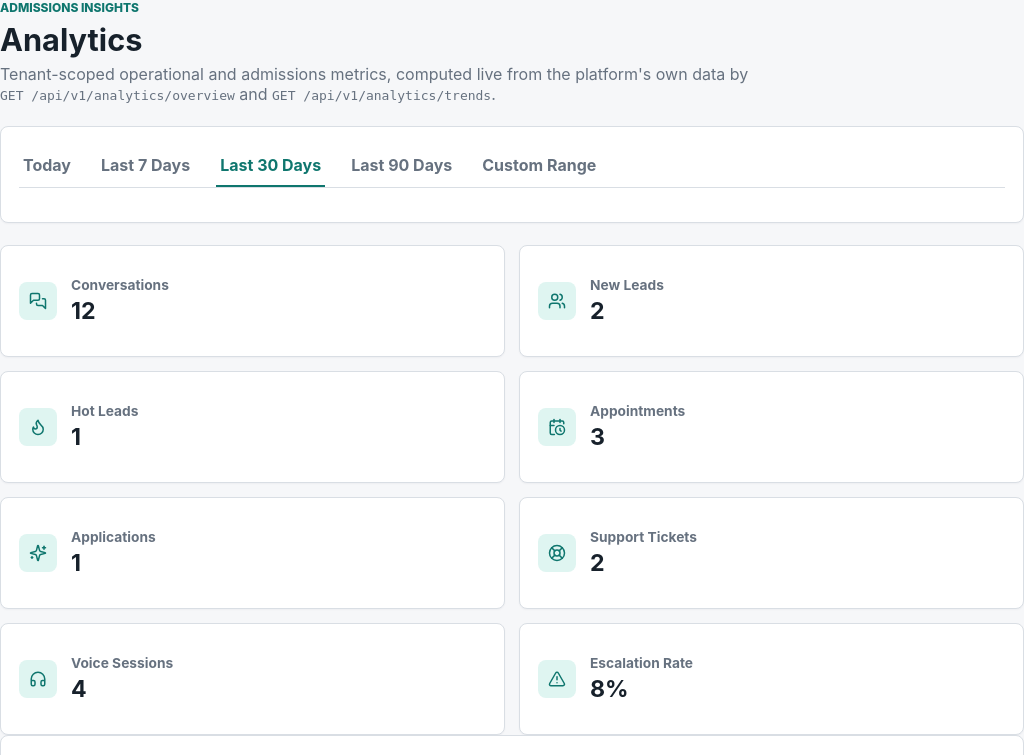
it: AnalyticsPageClient - date range presets › shows a validation error and never requests an end-before-start custom range
Click the tab "Custom Range". click: [539, 166]
box: [478,145,600,187]
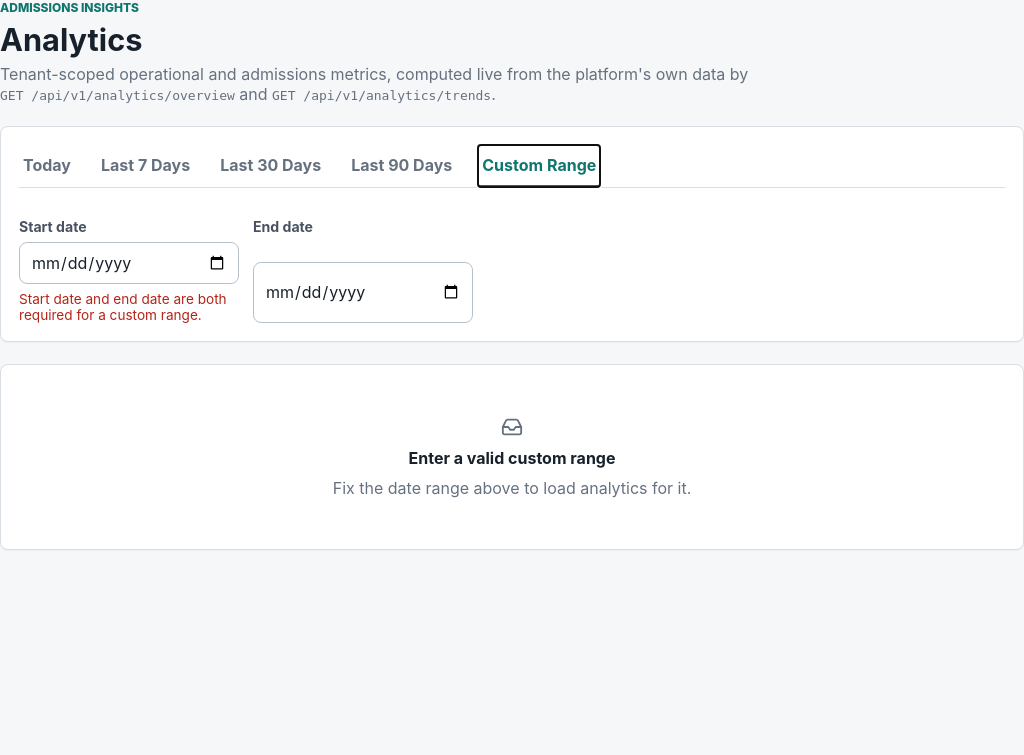
Type "2026-06-10" into the date field labelled "Start date". click: [129, 263]
box: [19,242,239,284]
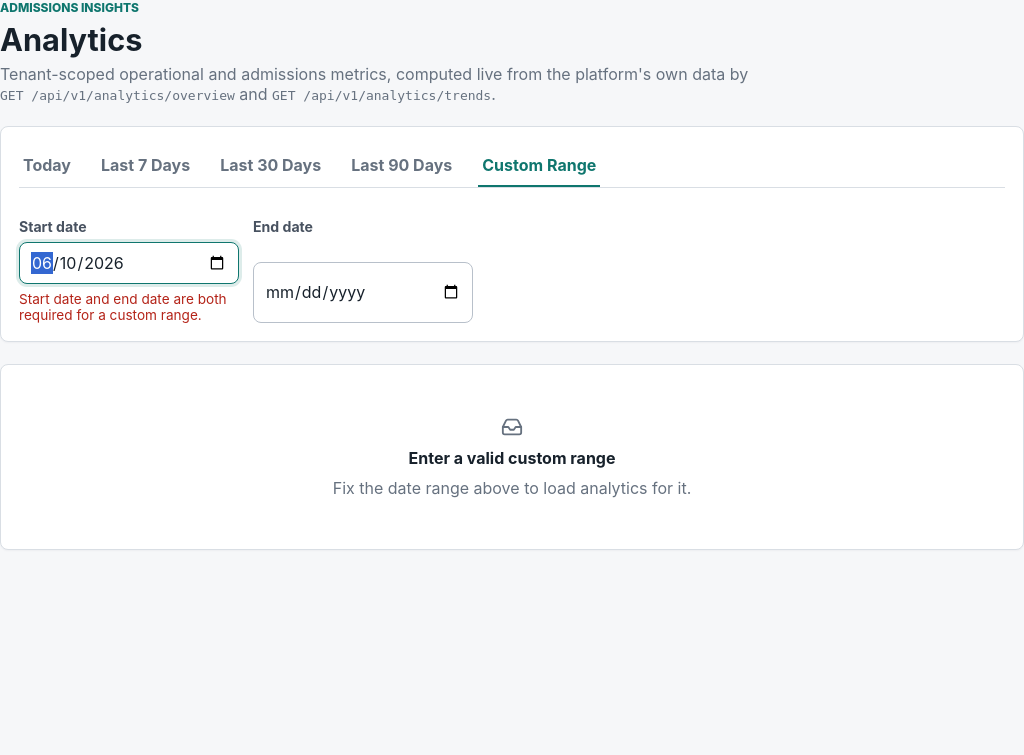
Type "2026-06-01" into the date field labelled "End date". click: [363, 292]
box: [253,262,473,323]
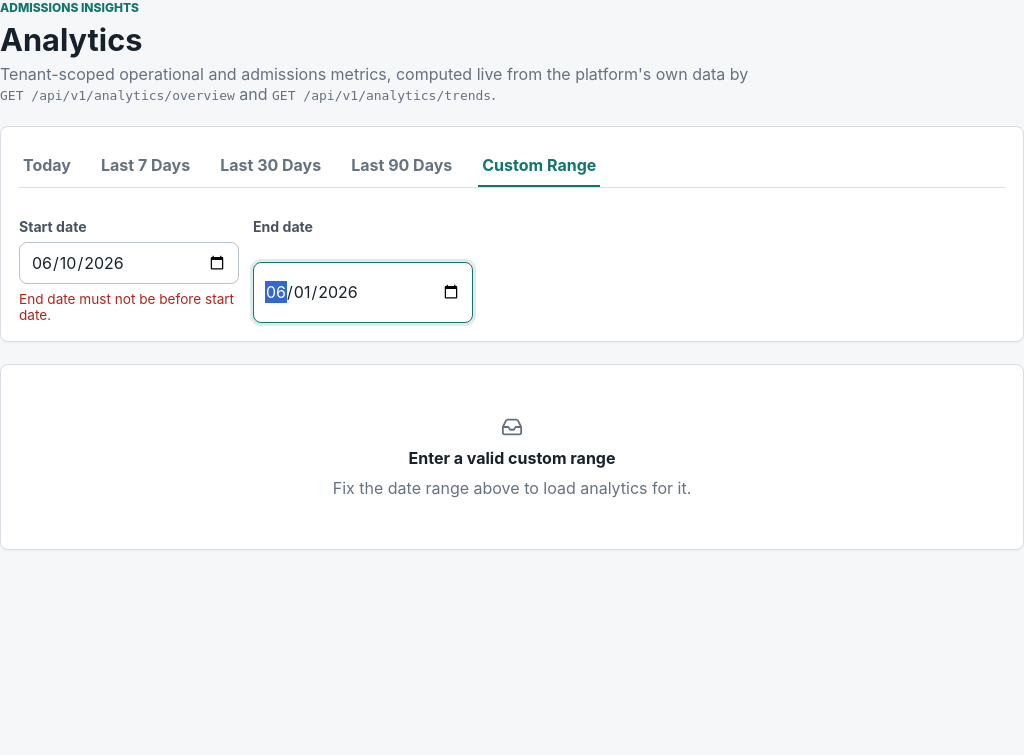
Now the text "End date must not be before start date." is shown, box [19,291,239,323]
